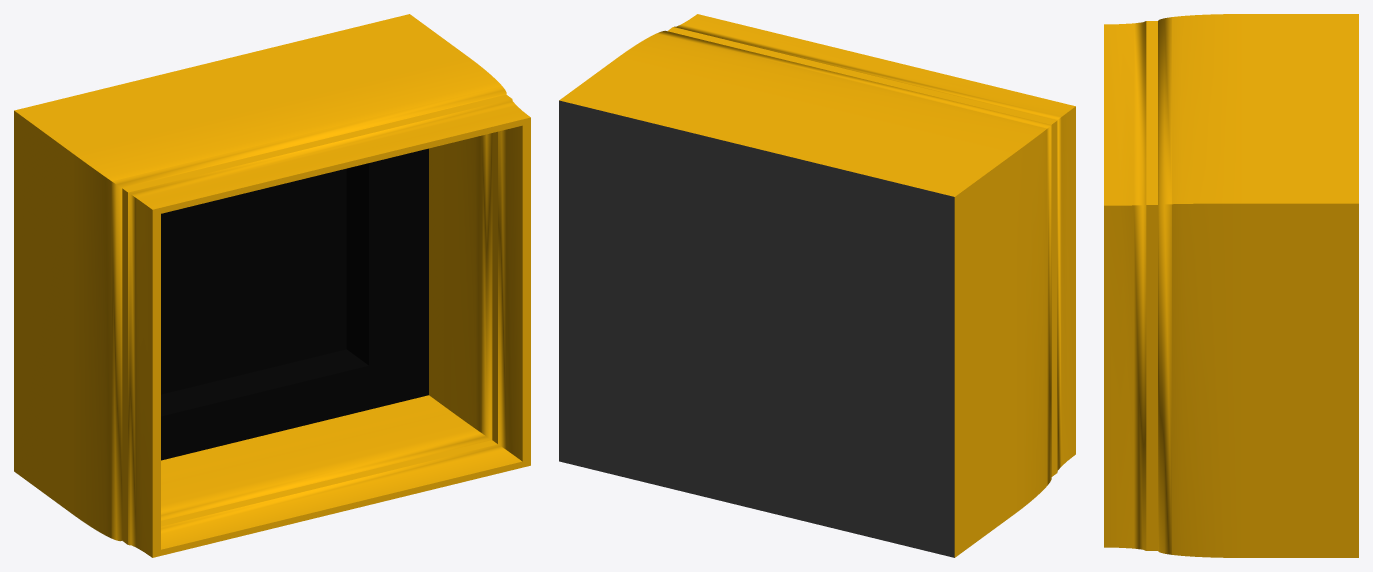
Rendered from Frame9_gold.glb.
3 views of the same model, side by side, from view 1: azimuth 30°, elevation 25°; view 2: azimuth 150°, elevation 25°; view 3: azimuth 270°, elevation 25° (orthographic).
Parts seen in each view (by area): view 1: Empty, A_PaintingMesh; view 2: Empty; view 3: Empty.
Part boxes in pixels (x1,y1,x2,y2): Empty: (14, 14, 530, 557); A_PaintingMesh: (161, 168, 346, 394); Empty: (559, 14, 1075, 557); Empty: (1104, 14, 1358, 557).
Bounding box in the file's own units: 1.76 × 1.54 × 1.
4 materials, 1 textured.
